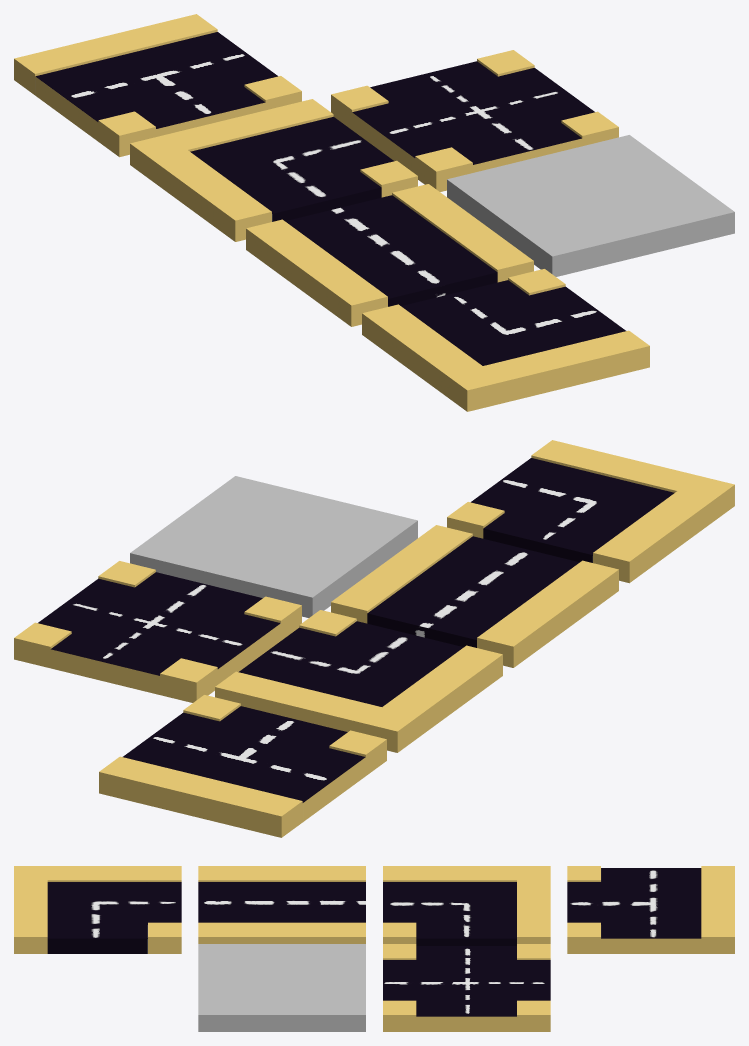
Rendered from trottoirs 1.fbx.
3 views of the same model, one above another, from view 1: azimuth 30°, elevation 25°; view 2: azimuth 150°, elevation 25°; view 3: azimuth 270°, elevation 25° (orthographic). The views are drawn at different scales.
Parts seen in each view (by area): view 1: SM_sol_0Way, SM_Sol_2way3, SM_Sol_2way2, SM_sol_2way1, SM_Sol_3Way, SM_Sol_4Way; view 2: SM_Sol_3Way, SM_Sol_4Way, SM_Sol_2way3, SM_sol_2way1, SM_sol_0Way, SM_Sol_2way2; view 3: SM_Sol_2way3, SM_sol_0Way, SM_Sol_3Way, SM_Sol_4Way, SM_Sol_2way2, SM_sol_2way1.
Boxes of the visible parts, <box> form: SM_sol_0Way: <box>447,135,734,276</box>; SM_Sol_2way3: <box>362,269,649,411</box>; SM_Sol_2way2: <box>130,99,417,241</box>; SM_sol_2way1: <box>246,184,533,326</box>; SM_Sol_3Way: <box>14,14,301,157</box>; SM_Sol_4Way: <box>331,50,618,191</box>; SM_Sol_3Way: <box>99,695,386,837</box>; SM_Sol_4Way: <box>14,561,301,702</box>; SM_Sol_2way3: <box>447,440,734,583</box>; SM_sol_2way1: <box>331,525,618,667</box>; SM_sol_0Way: <box>130,476,417,617</box>; SM_Sol_2way2: <box>215,610,502,752</box>; SM_Sol_2way3: <box>14,866,181,953</box>; SM_sol_0Way: <box>198,944,365,1031</box>; SM_Sol_3Way: <box>567,866,734,953</box>; SM_Sol_4Way: <box>383,944,550,1031</box>; SM_Sol_2way2: <box>383,866,550,945</box>; SM_sol_2way1: <box>198,866,365,943</box>.
Size of the model in its own units: 2100 by 112 by 4300.
